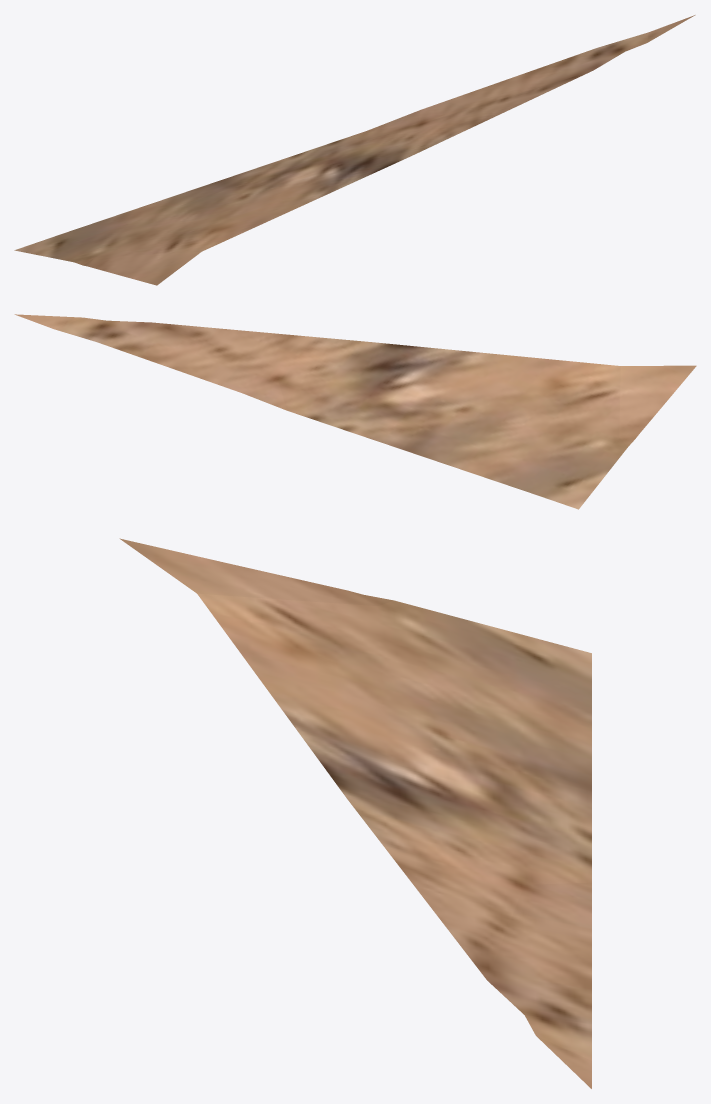
3 views of the same model, one above another, from view 1: azimuth 30°, elevation 25°; view 2: azimuth 150°, elevation 25°; view 3: azimuth 270°, elevation 25° (orthographic). The views are drawn at different scales.
Size of the model in its own units: 0.8942 by 0.0869 by 0.3243.
Materials: 1 (1 with a texture image).
